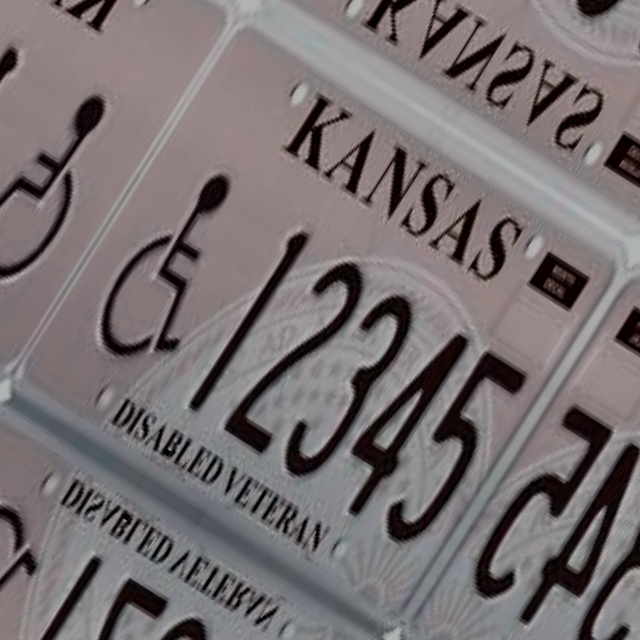ISA: (79, 155, 267, 381), (0, 69, 132, 296), (0, 488, 56, 640)
